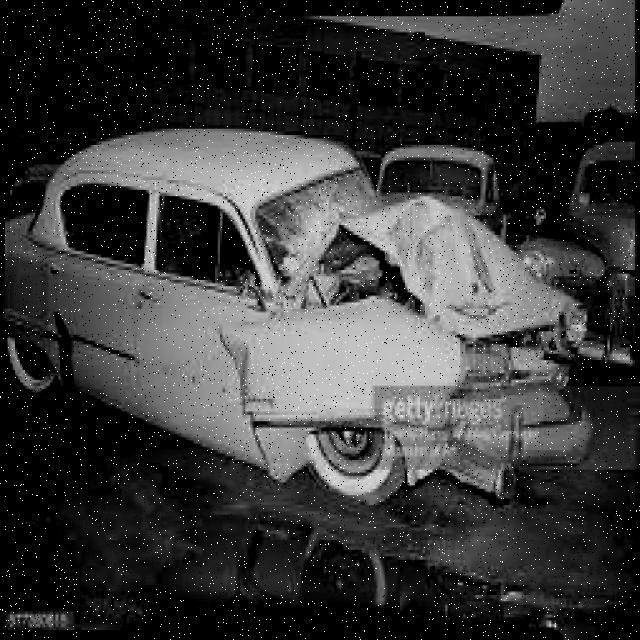car damage: (228, 162, 594, 482)
